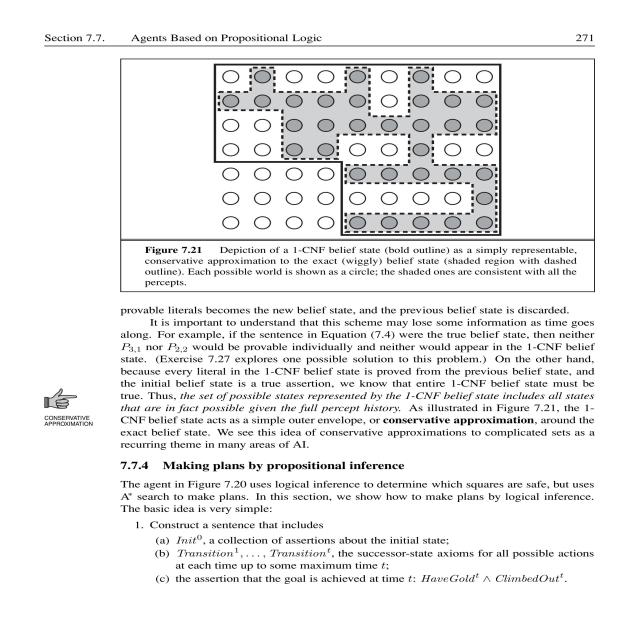diagram: (109, 51, 599, 291)
